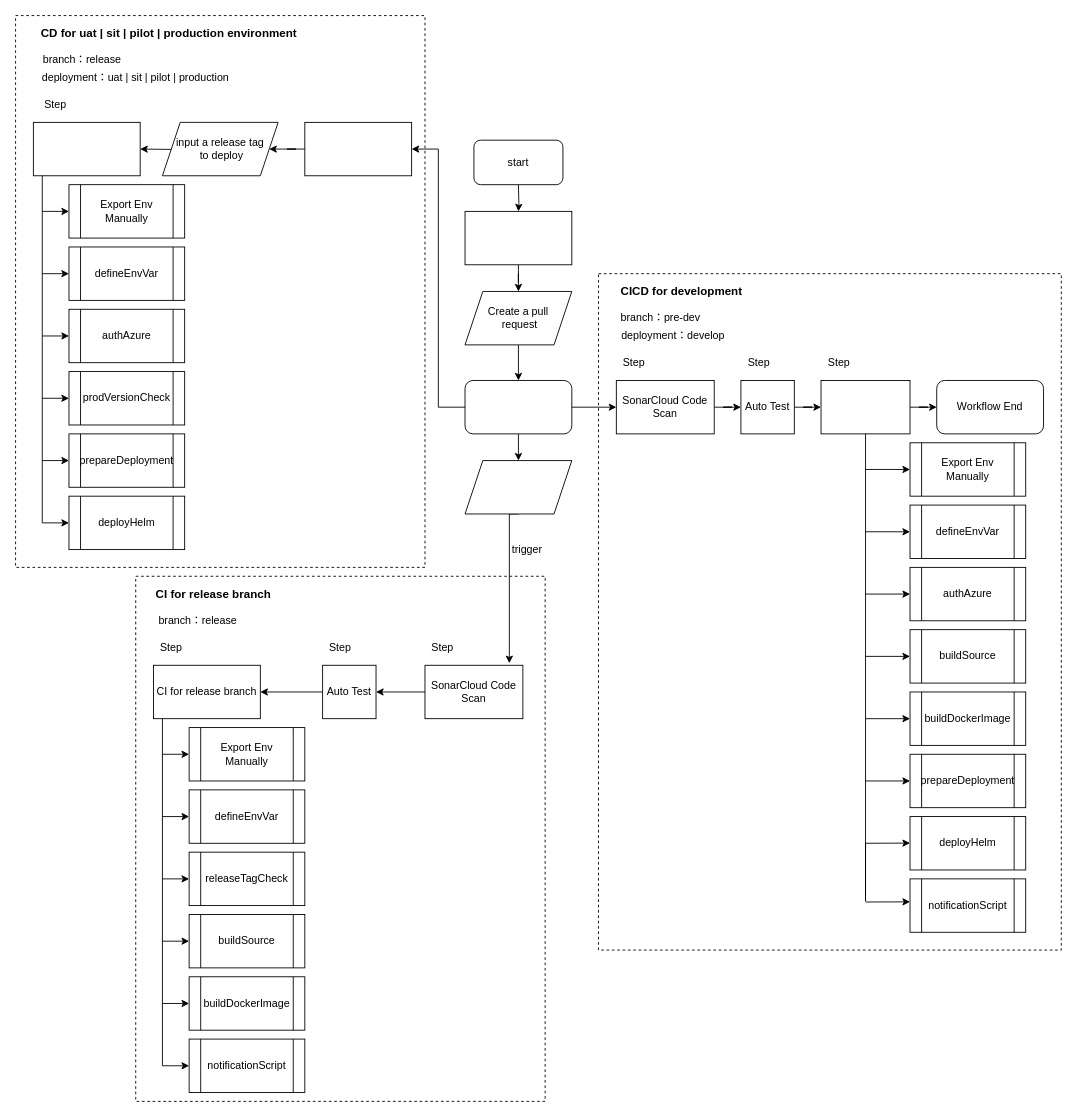
Some shapes in this 1077 by 1117 pixel diagram are drawn without their labels. Each missing label, with the centre of its shape:
CICD for pre-dev branch: point 865,407
click "run pipeline" on bitbucket: point 358,148
deploy to custom deployment: point 86,148
SCM COMMIT: point 518,237
tag a semantic version on release branch: point 518,487
Work flow Start: point 518,407
